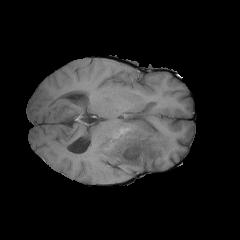glioma: (88, 116, 174, 183)
